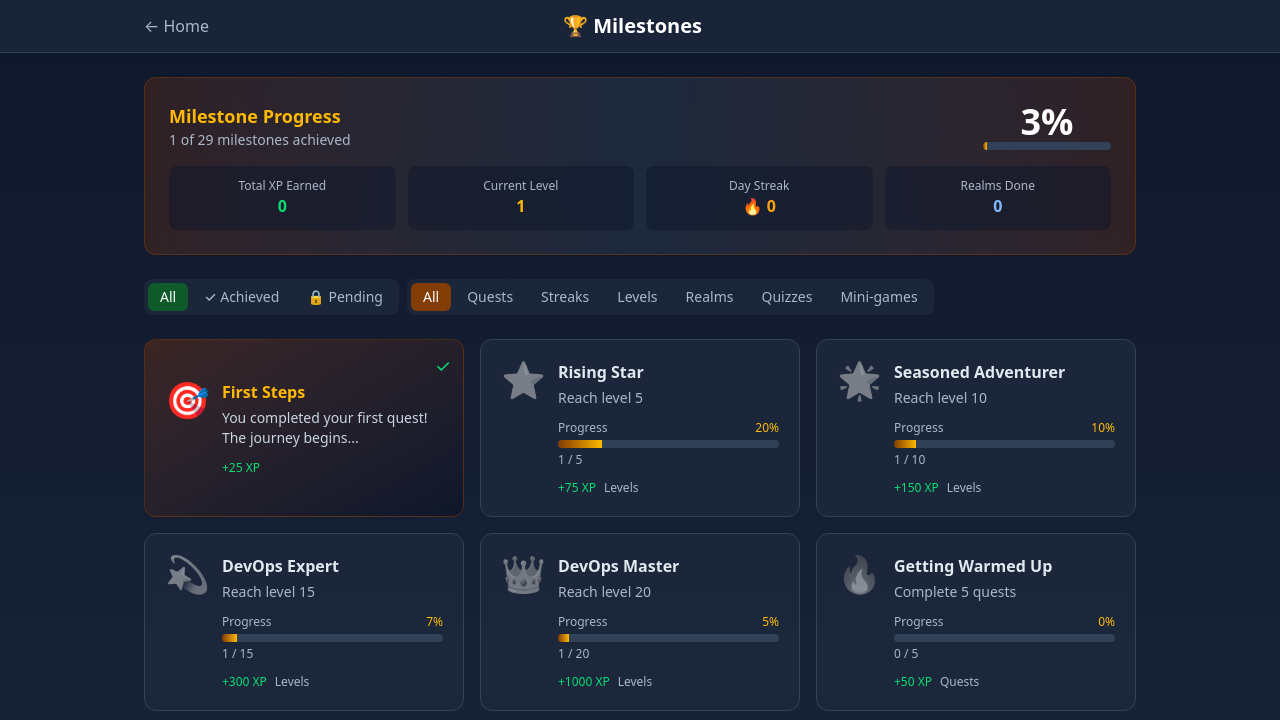
Test case: MilestonesPage › ranks an unlocked milestone first and lets the filters slice the list
expect the text "✓" is shown: met, box x1=435 y1=352 x2=451 y2=380
expect the text "You completed your first quest! The journey begins..." is shown: met, box x1=222 y1=408 x2=443 y2=448
The status filter narrows to a single achieved milestone
Click the button "✓ Achieved" at (242, 297), box x1=192 y1=283 x2=291 y2=311
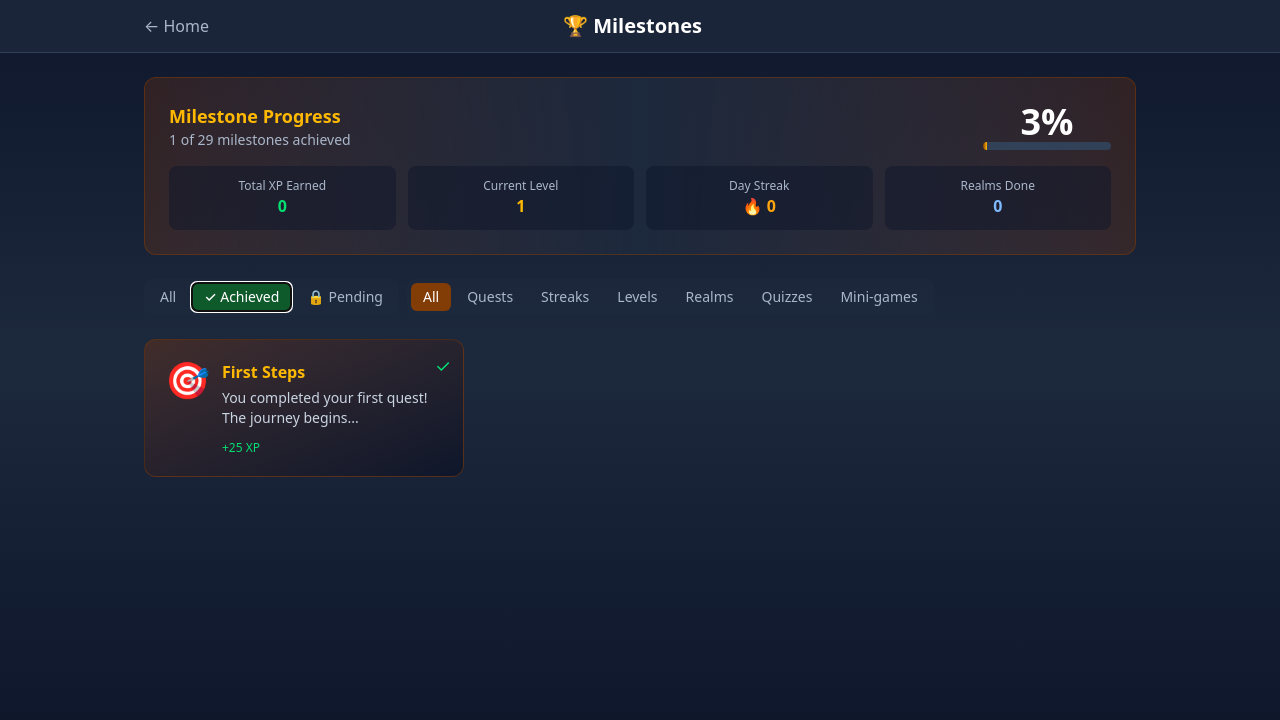
expect the heading "First Steps" is shown: met, box x1=222 y1=361 x2=305 y2=383
expect the button "Getting Warmed Up" is gone: met
...or hides it again
Click the button "🔒 Pending" at (345, 297), box x1=295 y1=283 x2=395 y2=311
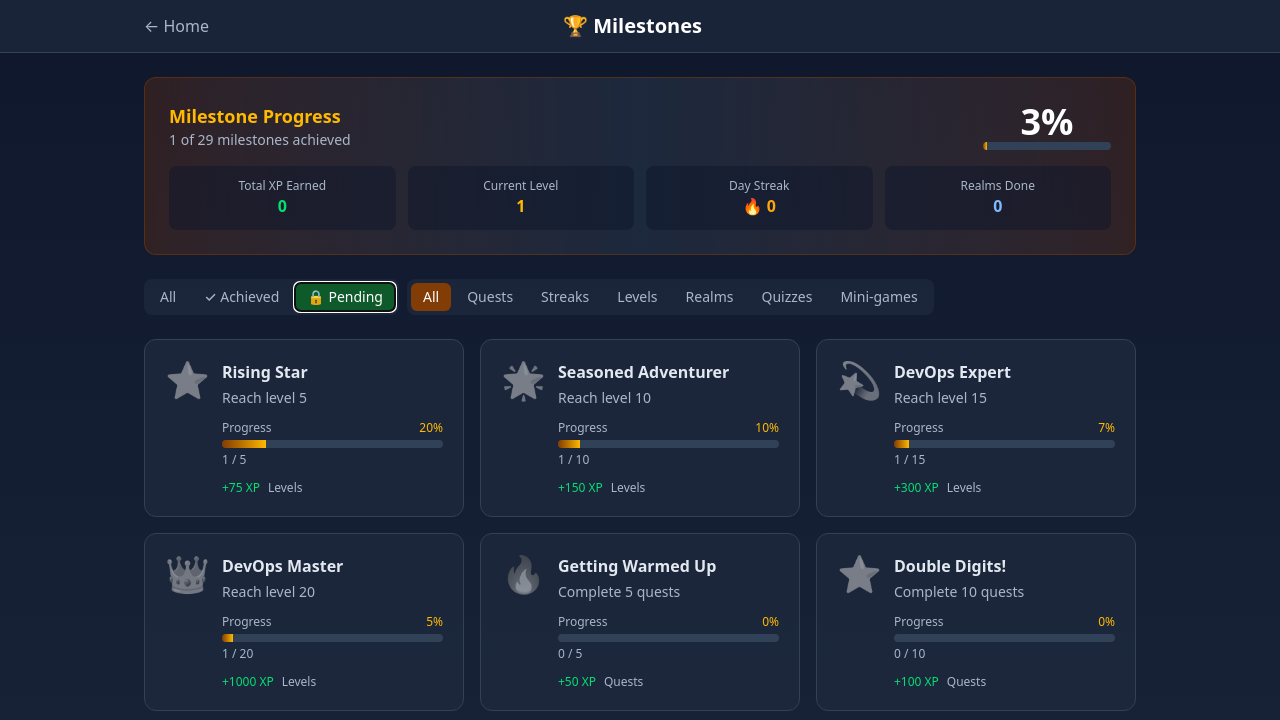
expect the button "First Steps" is gone: met
expect the heading "Getting Warmed Up" is shown: met, box x1=558 y1=555 x2=716 y2=577
Click the 1st button "All" at (168, 297), box x1=148 y1=283 x2=188 y2=311
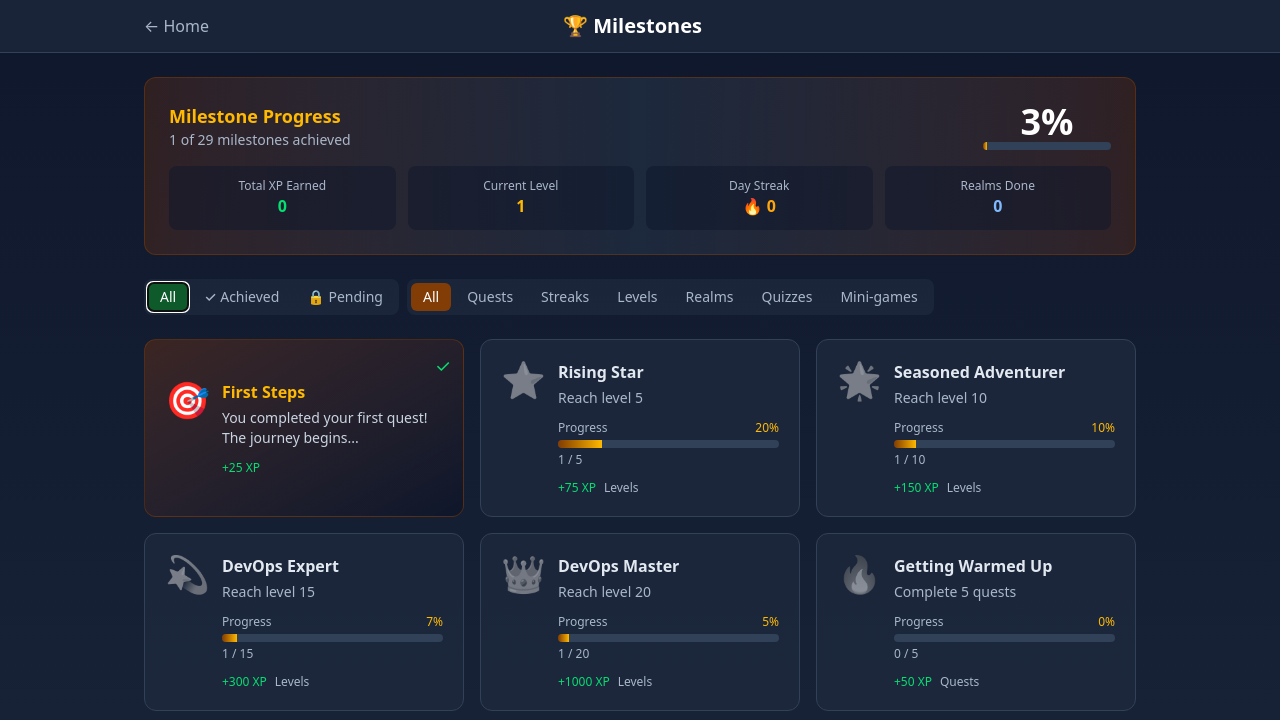
Click the button "Streaks" at (565, 297), box x1=529 y1=283 x2=601 y2=311
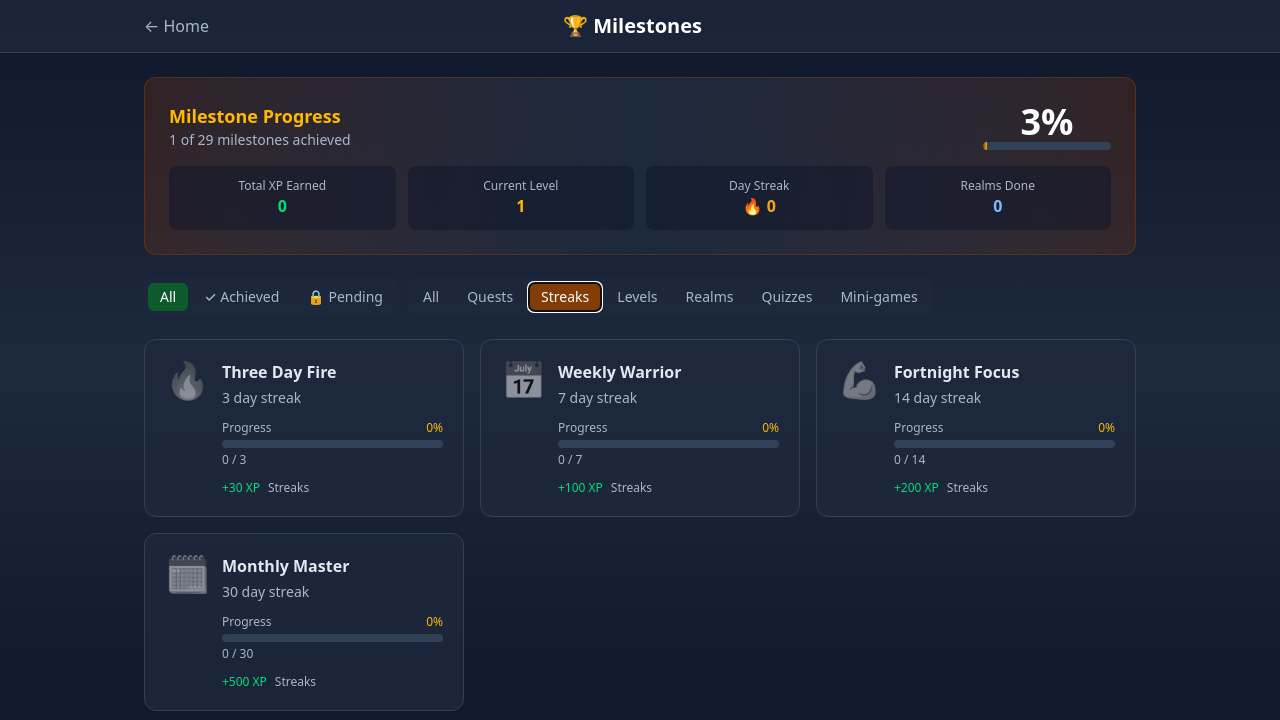
expect the heading "Three Day Fire" is shown: met, box x1=222 y1=361 x2=336 y2=383
expect the 2nd text "Streaks" is shown: met, box x1=611 y1=480 x2=652 y2=496
expect the button "Getting Warmed Up" is gone: met
